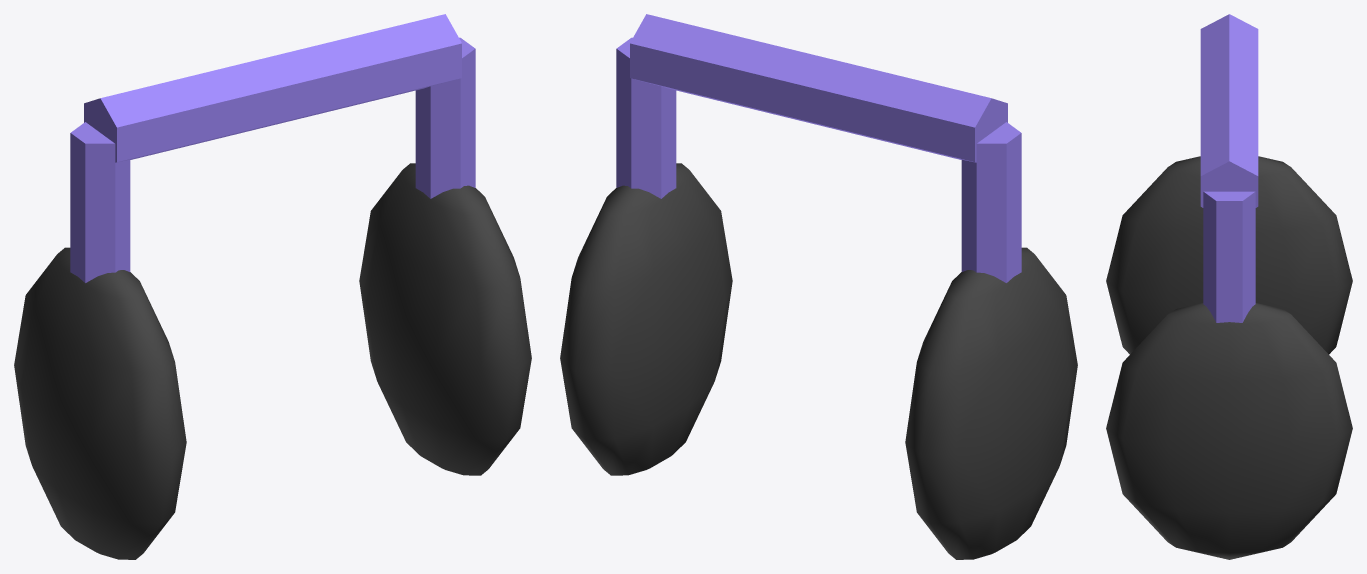
3 views of the same model, side by side, from view 1: azimuth 30°, elevation 25°; view 2: azimuth 150°, elevation 25°; view 3: azimuth 270°, elevation 25° (orthographic). The views are drawn at different scales.
Visible parts, largest first — view 1: Ear cushion.001, Ear cushion, Headband, Band side, Band side.001; view 2: Ear cushion.001, Ear cushion, Headband, Band side, Band side.001; view 3: Ear cushion.001, Ear cushion, Headband, Band side.001.
Part boxes in pixels (left/top/right/bottom): Ear cushion.001: left=359, top=163, right=531, bottom=475; Ear cushion: left=14, top=247, right=186, bottom=559; Headband: left=84, top=14, right=461, bottom=162; Band side: left=70, top=122, right=130, bottom=282; Band side.001: left=415, top=37, right=475, bottom=198; Ear cushion.001: left=560, top=163, right=732, bottom=475; Ear cushion: left=905, top=247, right=1077, bottom=559; Headband: left=630, top=14, right=1007, bottom=162; Band side: left=961, top=122, right=1021, bottom=282; Band side.001: left=616, top=37, right=676, bottom=198; Ear cushion.001: left=1106, top=303, right=1352, bottom=559; Ear cushion: left=1106, top=156, right=1352, bottom=354; Headband: left=1200, top=14, right=1258, bottom=207; Band side.001: left=1203, top=191, right=1255, bottom=322.
Size of the model in its own units: 0.31 by 0.303 by 0.17.
Materials: 1 (1 with a texture image).
